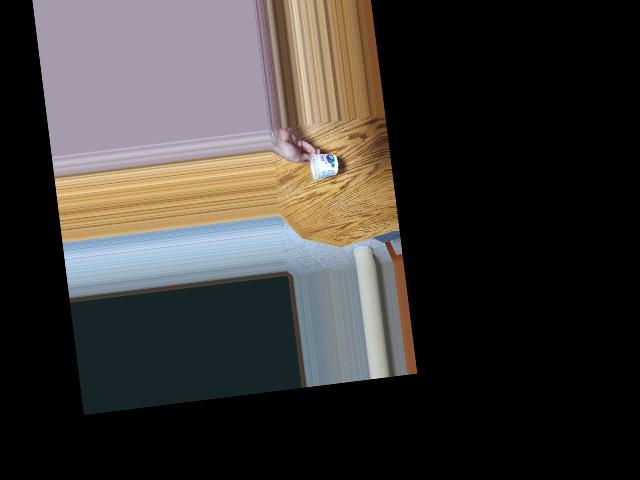cotage: (302, 145, 339, 183)
